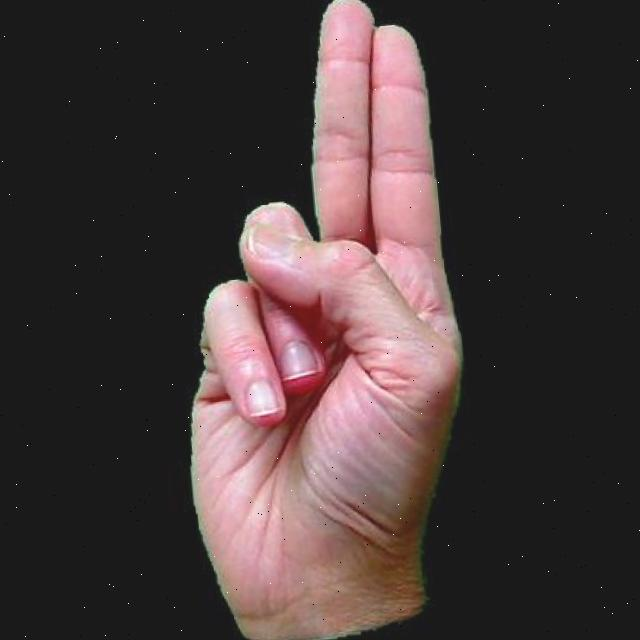u: (123, 0, 486, 640)
